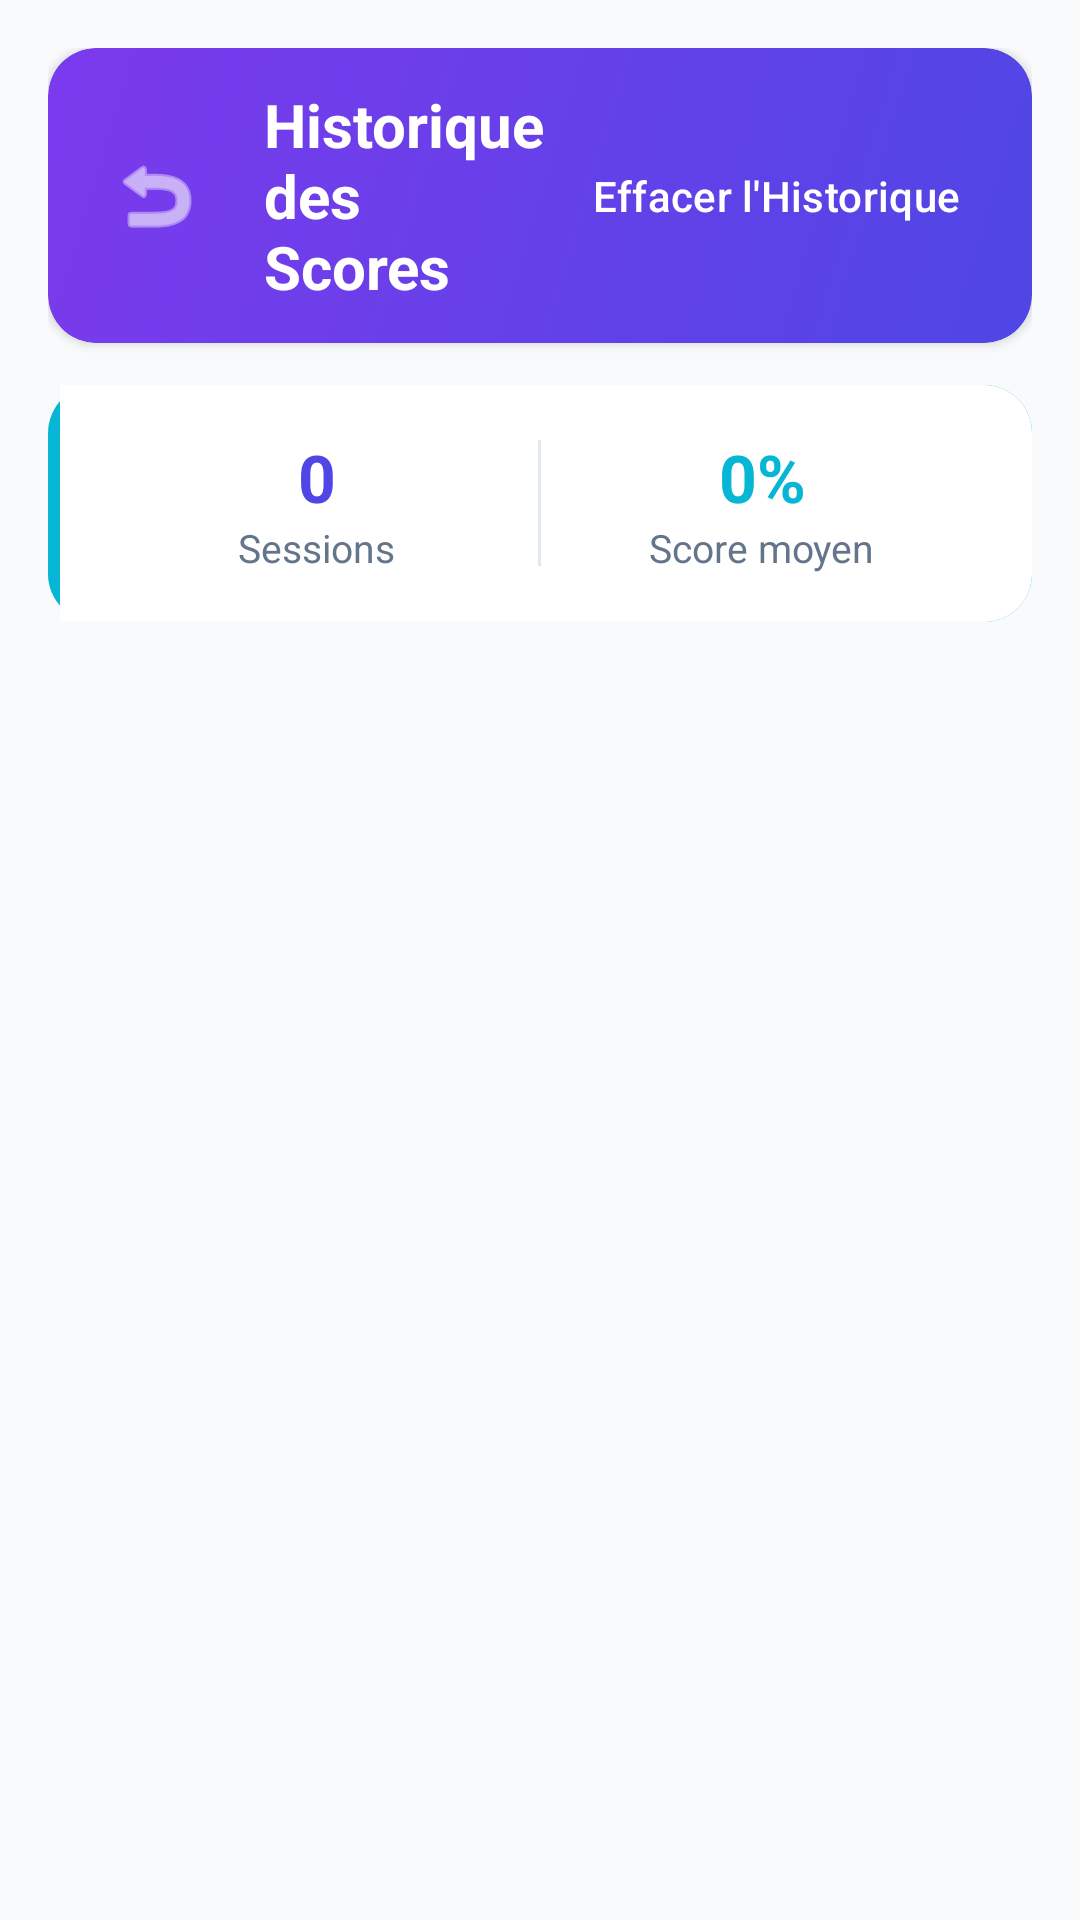

Where to tap for icons on this 1080px x 1920px app screen, as [x,y]:
Retour: [157,196]
